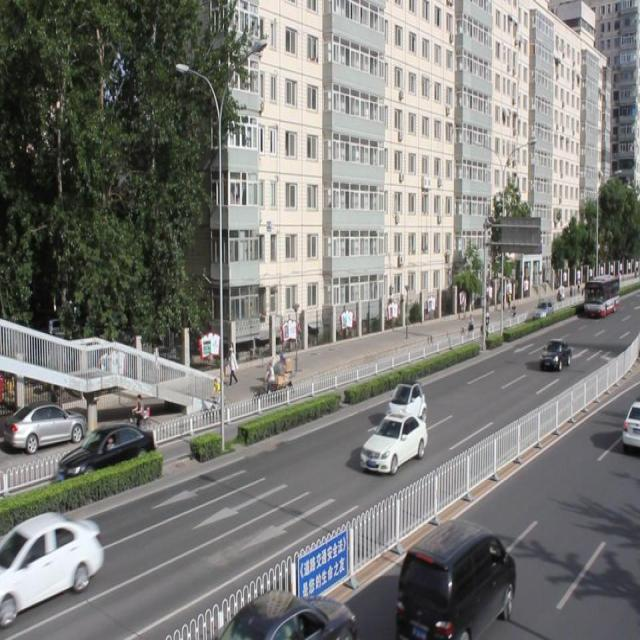car: (396, 519, 514, 640), (1, 510, 101, 612), (222, 586, 356, 640), (58, 422, 154, 482), (359, 410, 426, 472), (384, 378, 426, 424), (538, 335, 569, 370), (620, 400, 640, 450)
